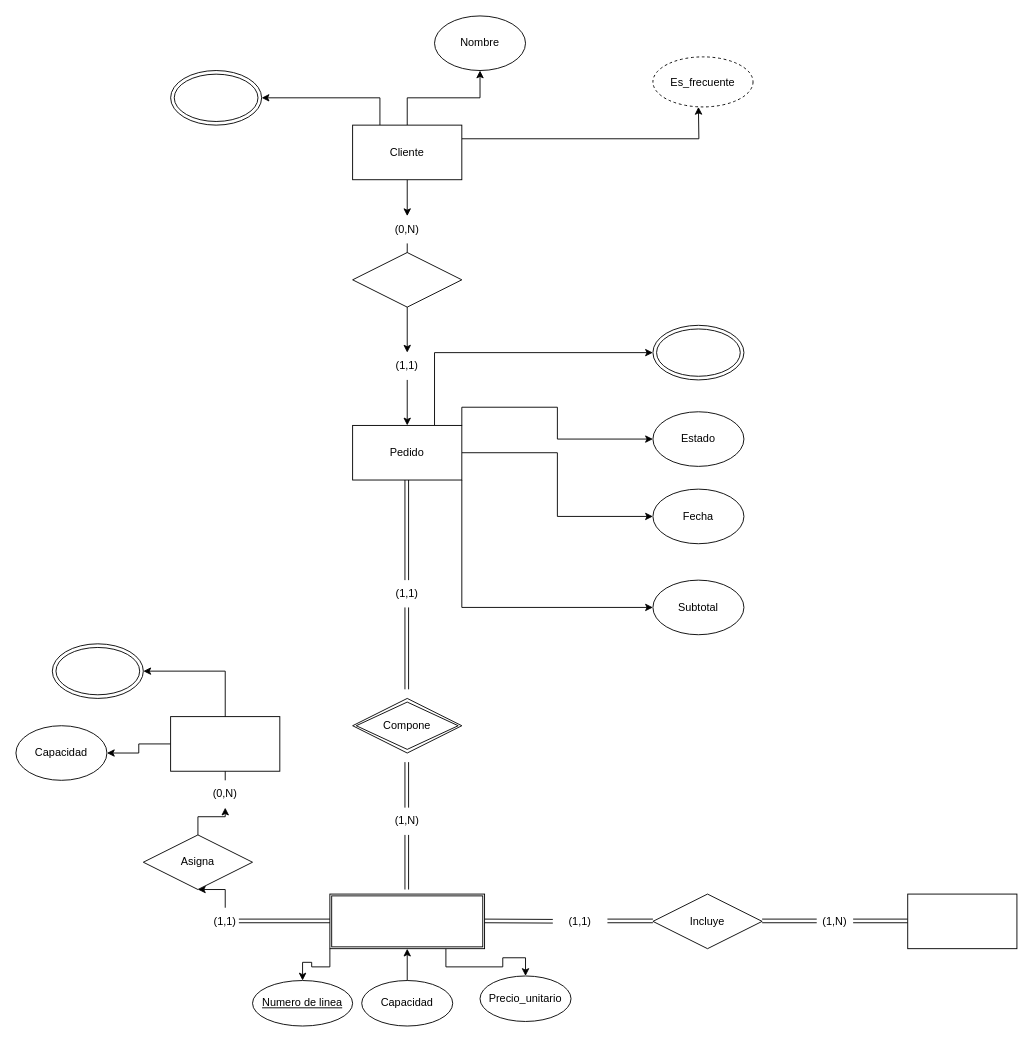
This 1033x1042 diagram has some shape labels left out. The box of each missing label's shape, as (x1, y1, x2, y2) in pixels:
id_cliente: (170, 70, 262, 125)
id_mesa: (51, 643, 143, 698)
id_pedido: (652, 324, 744, 380)
Item_pedido: (329, 893, 485, 949)
Mesa: (170, 716, 280, 771)
Plato: (907, 893, 1017, 949)
Realiza: (352, 252, 462, 307)
